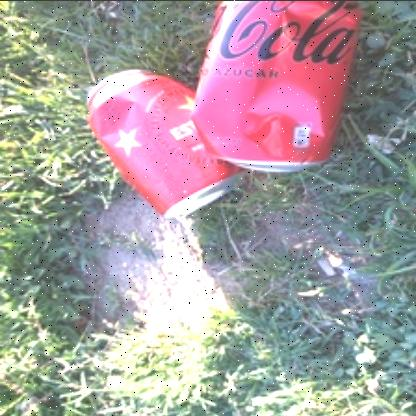Can: (192, 0, 362, 172), (86, 68, 248, 218)
